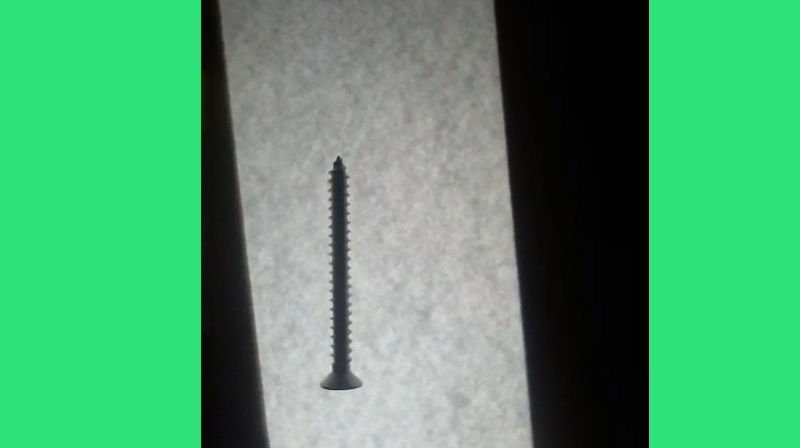S002: (314, 152, 365, 394)
